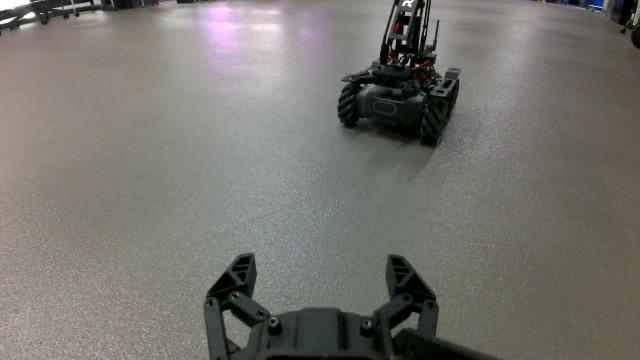robot: (335, 0, 462, 145)
